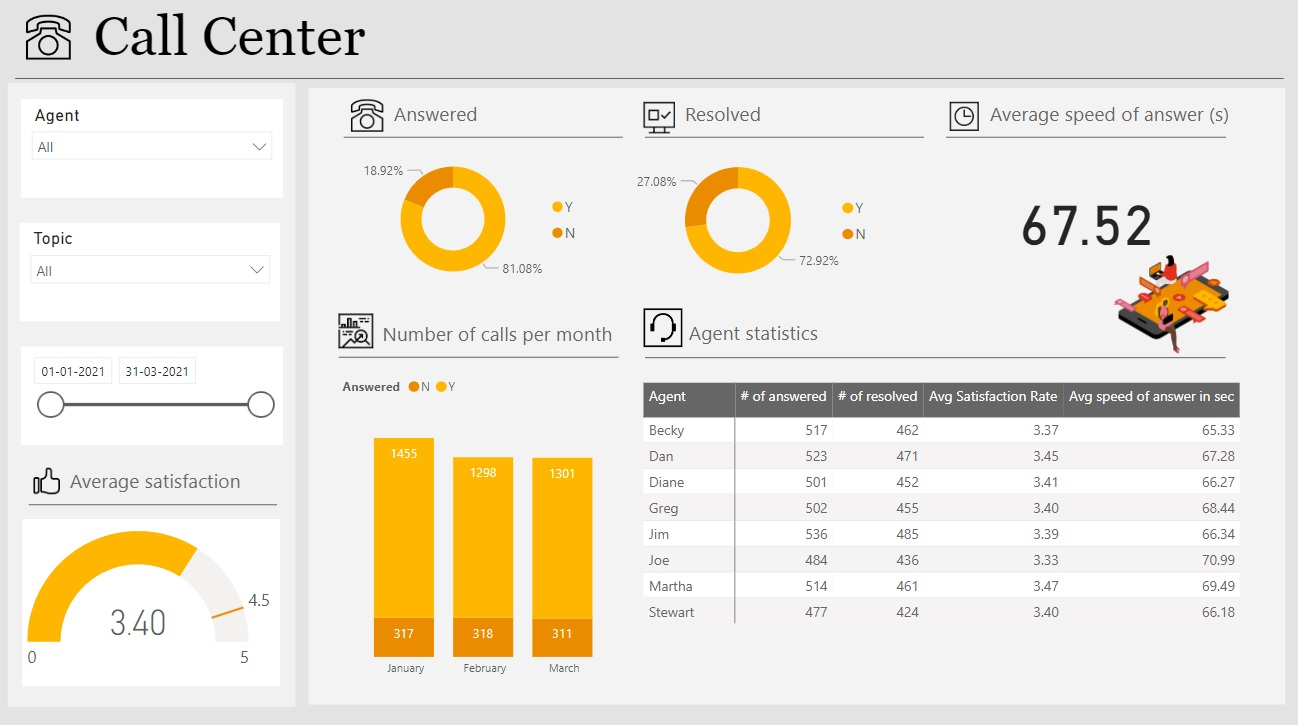

This screenshot's page, from the dashboard's own definition file:
{"tool":"powerbi","page":{"name":"Call Center Manager","canvas":[1280,720],"ordinal":0},"visuals":[{"type":"textbox","box":[89.7,4.8,1172,75.2],"z":0},{"type":"basicShape","box":[9,61,1244.3,40.1],"z":1000},{"type":"basicShape","box":[8.7,80.1,283.6,614.4],"z":2000},{"type":"basicShape","box":[292.1,83.8,961.4,607.1],"z":3000},{"type":"image","box":[24.1,7.7,53.1,68.5],"z":5000},{"type":"columnChart","fields":{"Category":["Call Center.Date.Variation.Date Hierarchy.Month"],"Y":["Call Center.Call Id"],"Series":["Call Center.Answered (Y/N)"]},"box":[329.5,359.7,284.8,308.3],"z":6000},{"type":"slicer","fields":{"Values":["Call Center.Date"]},"box":[24.6,339.5,252.4,94.9],"z":7000},{"type":"pivotTable","fields":{"Rows":["Call Center.Agent"],"Values":["Call Center.# of answered","Call Center.# of resolved","Call Center.Satisfaction rating","Call Center.Speed of answer in seconds"]},"box":[619.3,370.5,608.5,297.5],"z":8000},{"type":"slicer","fields":{"Values":["Call Center.Agent"]},"box":[24.6,101.6,252.4,95],"z":9000},{"type":"slicer","fields":{"Values":["Call Center.Topic"]},"box":[23.5,220.6,251.3,94.9],"z":10000},{"type":"donutChart","fields":{"Category":["Call Center.Resolved"],"Y":["Call Center.Resolved"]},"box":[611,143,242.4,149.7],"z":11000},{"type":"gauge","fields":{"Y":["Call Center.Satisfaction rating"],"MaxValue":["Call Center.Satisfaction rating"],"TargetValue":["Call Center.Target Value Satisfaction"]},"box":[25.7,506,249.1,162],"z":12000},{"type":"image","box":[31.1,452.4,35.7,35.7],"z":13000},{"type":"textbox","box":[66.8,452.4,188.1,35.7],"z":14000},{"type":"basicShape","box":[21.2,472.5,259.1,40.2],"z":15000},{"type":"donutChart","fields":{"Category":["Call Center.Answered (Y/N)"],"Y":["Call Center.Answered (Y/N)"]},"box":[341.8,141.8,232.3,149.7],"z":16000},{"type":"textbox","box":[378.6,98.3,172,35.7],"z":17000},{"type":"textbox","box":[660.1,98.3,183.2,35.7],"z":18000},{"type":"card","fields":{"Values":["Call Center.Speed of answer in seconds"]},"box":[953.9,148.6,196.6,136.3],"z":19000},{"type":"basicShape","box":[906.9,118.4,289.3,40.2],"z":20000},{"type":"textbox","box":[953.9,98.3,250.2,35.7],"z":21000},{"type":"basicShape","box":[325,118.4,289,40.2],"z":22000},{"type":"basicShape","box":[616,118.4,289,40.2],"z":23000},{"type":"image","box":[915.9,88.2,38,59.2],"z":24000},{"type":"image","box":[337.3,94.9,41.3,43.6],"z":25000},{"type":"image","box":[619.9,88.2,40.2,61.4],"z":26000},{"type":"textbox","box":[367.4,310.5,250.2,35.7],"z":27000},{"type":"basicShape","box":[320.5,330.6,289.3,40.2],"z":28000},{"type":"textbox","box":[663.4,309.3,250.2,35.7],"z":29000},{"type":"basicShape","box":[616.6,329.9,580.1,40.6],"z":30000},{"type":"image","box":[619.3,294.8,47.3,55.4],"z":31000},{"type":"image","box":[325,290.4,43.6,69.2],"z":32000},{"type":"image","box":[1002,216.4,278.6,154.2],"z":33000}]}

Visuals, with their boxes in screenshot pixels (x1, y1, x2, y2), scaled from the page's 1280x720 canvas onto the 1298x725 screenshot:
textbox: bbox(91, 5, 1279, 81)
basicShape: bbox(9, 61, 1271, 102)
basicShape: bbox(9, 81, 296, 699)
basicShape: bbox(296, 84, 1271, 696)
image: bbox(24, 8, 78, 77)
columnChart - Call Center.Date.Variation.Date Hierarchy.Month x Call Center.Call Id: bbox(334, 362, 623, 673)
slicer - Call Center.Date: bbox(25, 342, 281, 437)
pivotTable - Call Center.Agent x Call Center.# of answered: bbox(628, 373, 1245, 673)
slicer - Call Center.Agent: bbox(25, 102, 281, 198)
slicer - Call Center.Topic: bbox(24, 222, 279, 318)
donutChart - Call Center.Resolved x Call Center.Resolved: bbox(620, 144, 865, 295)
gauge - Call Center.Satisfaction rating x Call Center.Satisfaction rating: bbox(26, 510, 279, 673)
image: bbox(32, 456, 68, 491)
textbox: bbox(68, 456, 258, 491)
basicShape: bbox(21, 476, 284, 516)
donutChart - Call Center.Answered (Y/N) x Call Center.Answered (Y/N): bbox(347, 143, 582, 294)
textbox: bbox(384, 99, 558, 135)
textbox: bbox(669, 99, 855, 135)
card - Call Center.Speed of answer in seconds: bbox(967, 150, 1167, 287)
basicShape: bbox(920, 119, 1213, 160)
textbox: bbox(967, 99, 1221, 135)
basicShape: bbox(330, 119, 623, 160)
basicShape: bbox(625, 119, 918, 160)
image: bbox(929, 89, 967, 148)
image: bbox(342, 96, 384, 139)
image: bbox(629, 89, 669, 151)
textbox: bbox(373, 313, 626, 349)
basicShape: bbox(325, 333, 618, 373)
textbox: bbox(673, 311, 926, 347)
basicShape: bbox(625, 332, 1214, 373)
image: bbox(628, 297, 676, 353)
image: bbox(330, 292, 374, 362)
image: bbox(1016, 218, 1297, 373)
